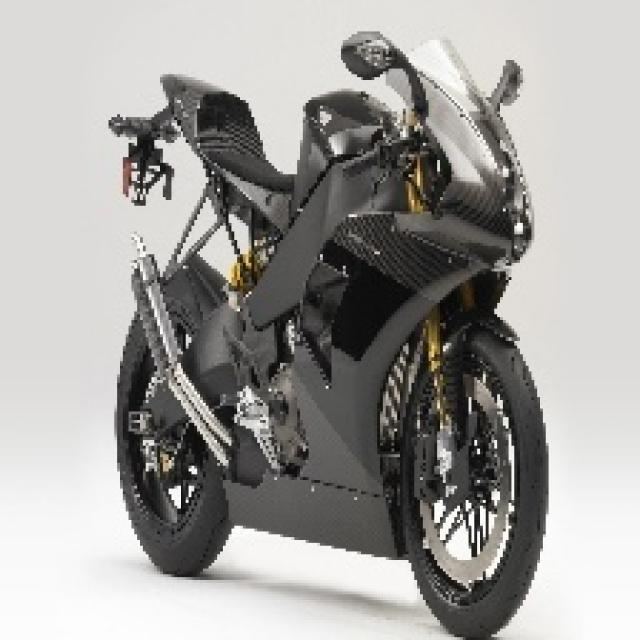motorace: (87, 38, 576, 634)
